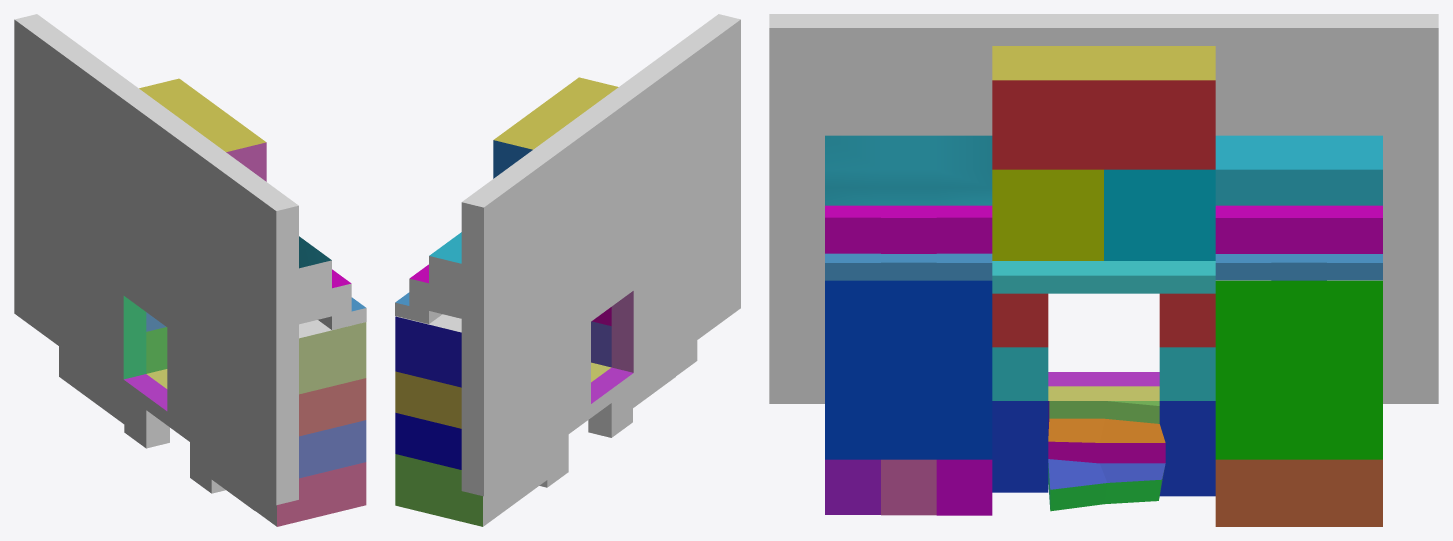
File: Temple.fbx
3 views of the same model, side by side, from view 1: azimuth 30°, elevation 25°; view 2: azimuth 150°, elevation 25°; view 3: azimuth 270°, elevation 25° (orthographic). The views are drawn at different scales.
Parts seen in each view (by area): view 1: Cube; view 2: Cube; view 3: Cube.
Part boxes in pixels (x1,y1,x2,y2): Cube: (14, 14, 366, 526); Cube: (395, 14, 740, 526); Cube: (769, 14, 1438, 526).
Size of the model in its own units: 951 by 2765 by 3700.
